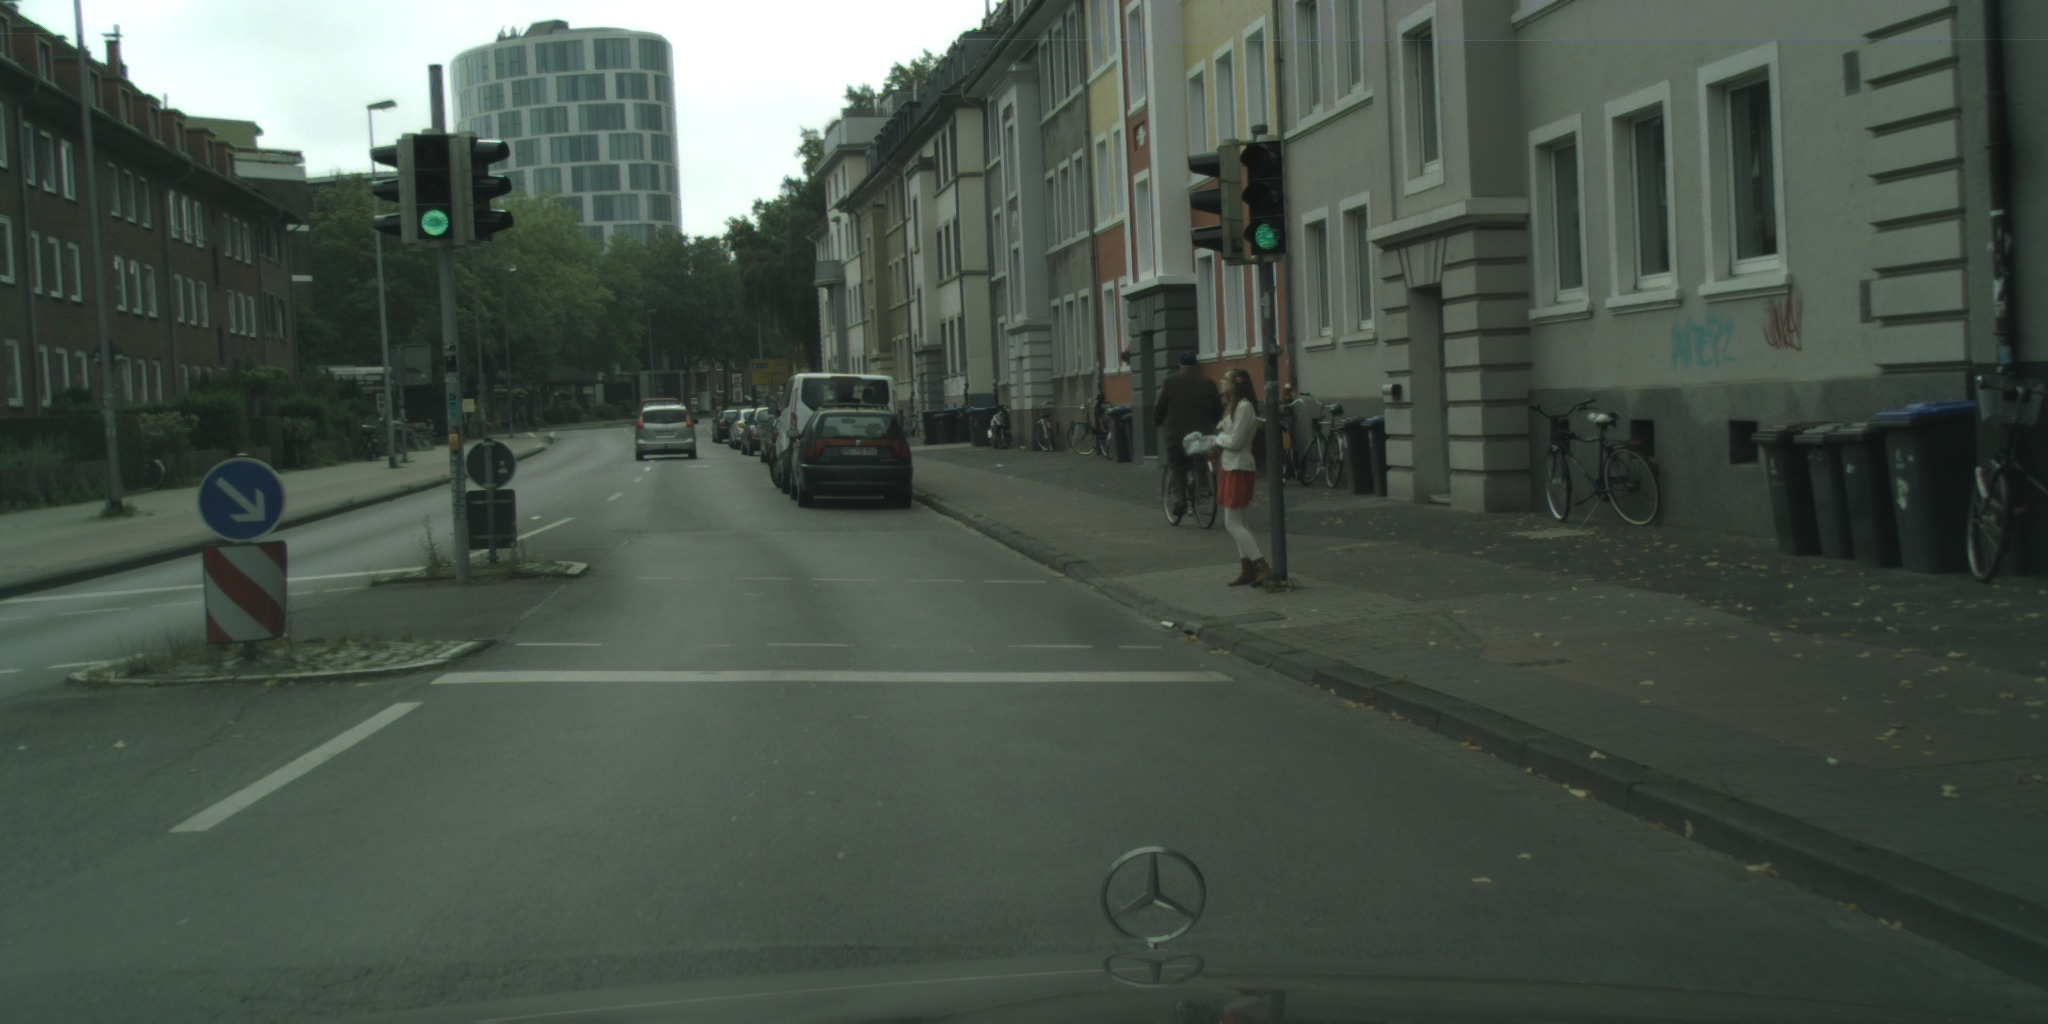bicycle: (1965, 373, 2048, 584), (1528, 399, 1661, 525), (1297, 391, 1346, 489), (1161, 448, 1218, 529), (1241, 416, 1298, 486), (1067, 395, 1121, 461), (1278, 398, 1307, 484), (1030, 400, 1057, 453)
car: (768, 372, 897, 495), (785, 403, 913, 510), (629, 404, 699, 462), (741, 407, 783, 456), (757, 406, 787, 468), (630, 397, 683, 424), (726, 408, 759, 450), (712, 409, 742, 444)
motorcycle: (988, 405, 1013, 449), (361, 415, 381, 462)
person: (1182, 367, 1272, 590)
rider: (1151, 351, 1226, 519)
